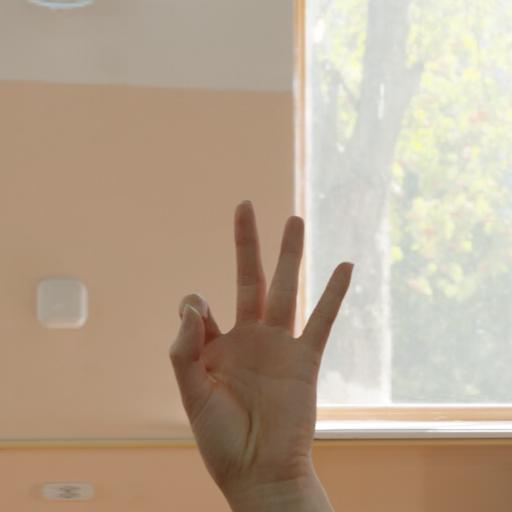F: (154, 194, 360, 492)
